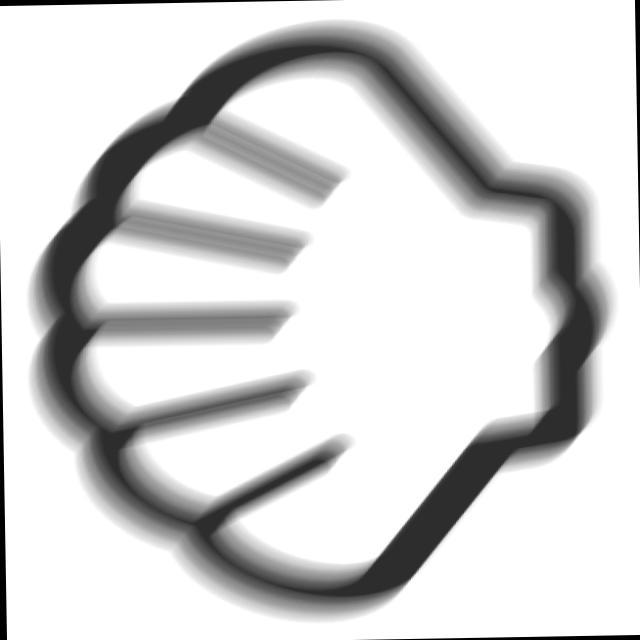shell: (5, 3, 634, 635)
